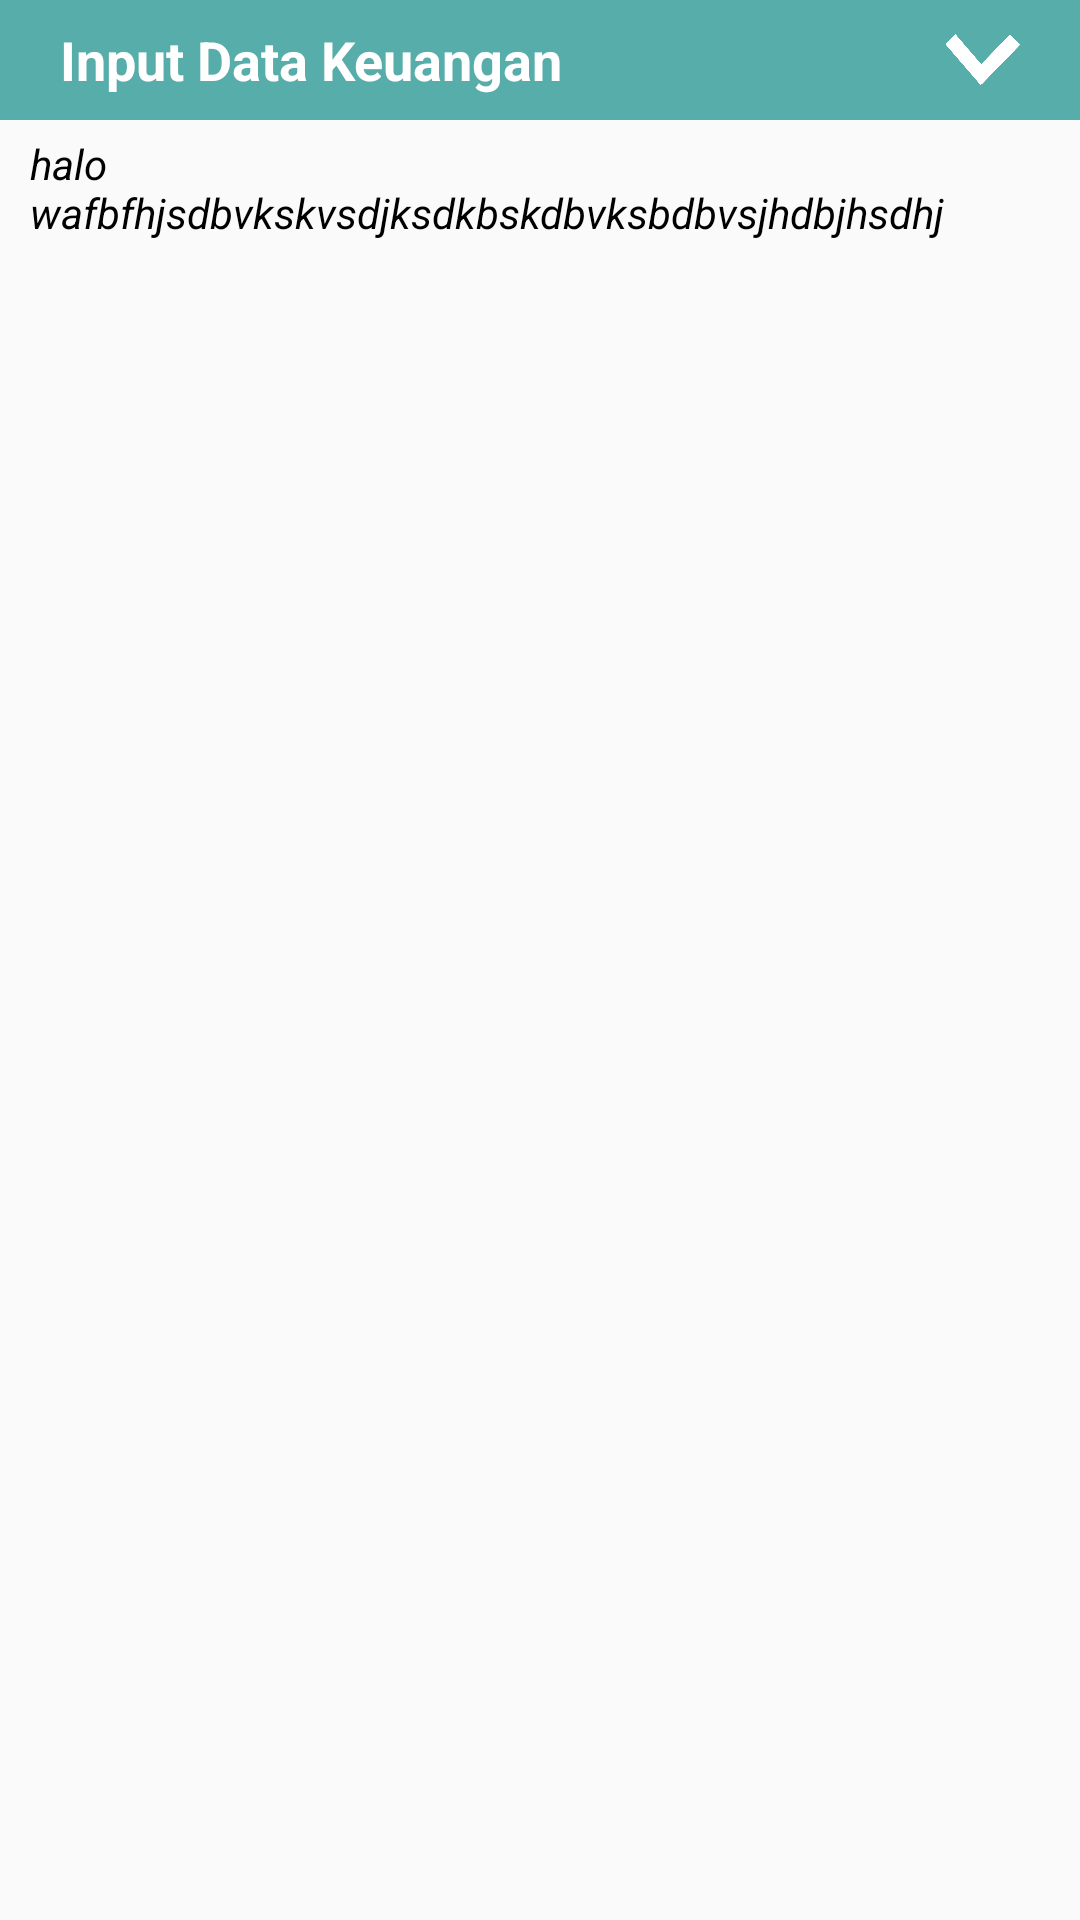

Screen size 1080*1920. Icon name, then its box in pixels as (x1, y1, x2, y2):
bawah: (946, 34, 1020, 85)
